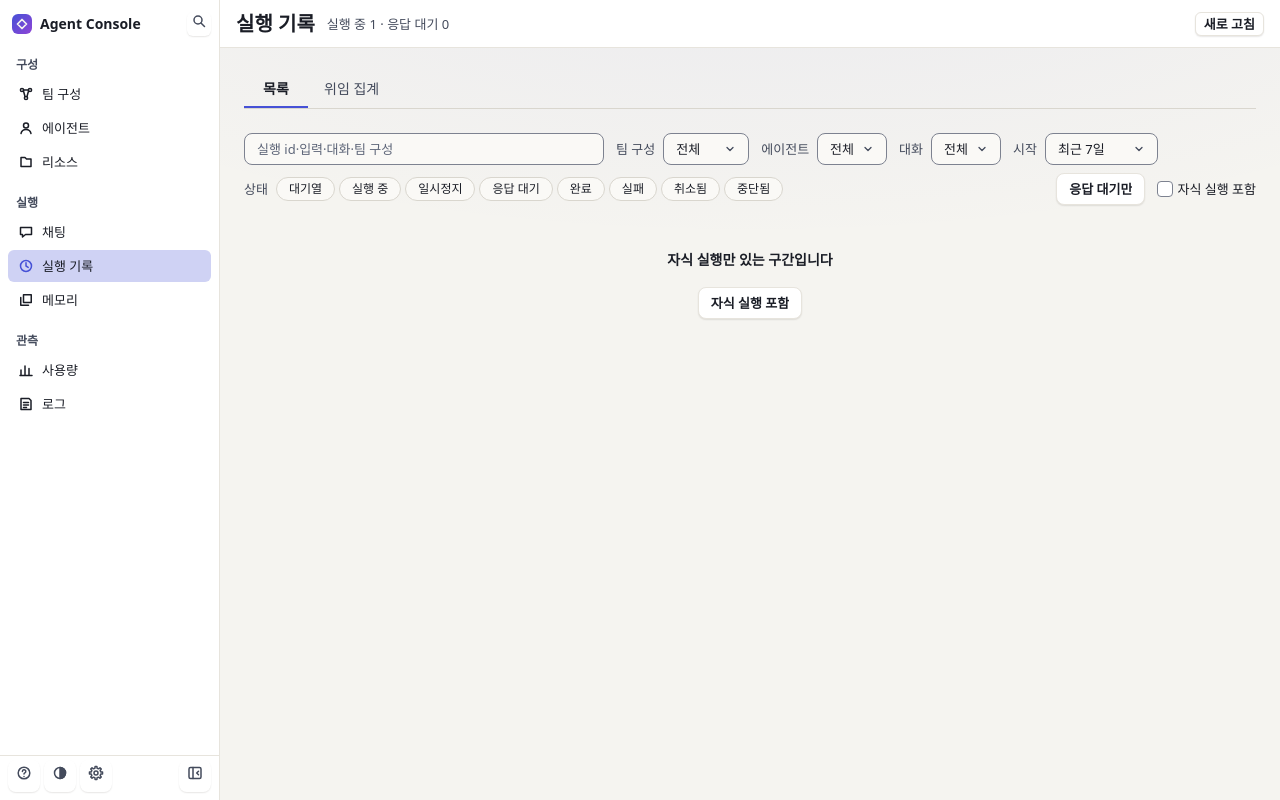
Test: 실행 기록: 자식 실행 포함 토글 › 자식 실행만 있는 구간이면 안내와 [자식 실행 포함]
The width and height of the screenshot is (1280, 800).
Expected: the heading "자식 실행만 있는 구간입니다" is shown, [667,249,833,271]
Step 1. Click the button "자식 실행 포함" → x=750, y=303, box [698,287,802,319]
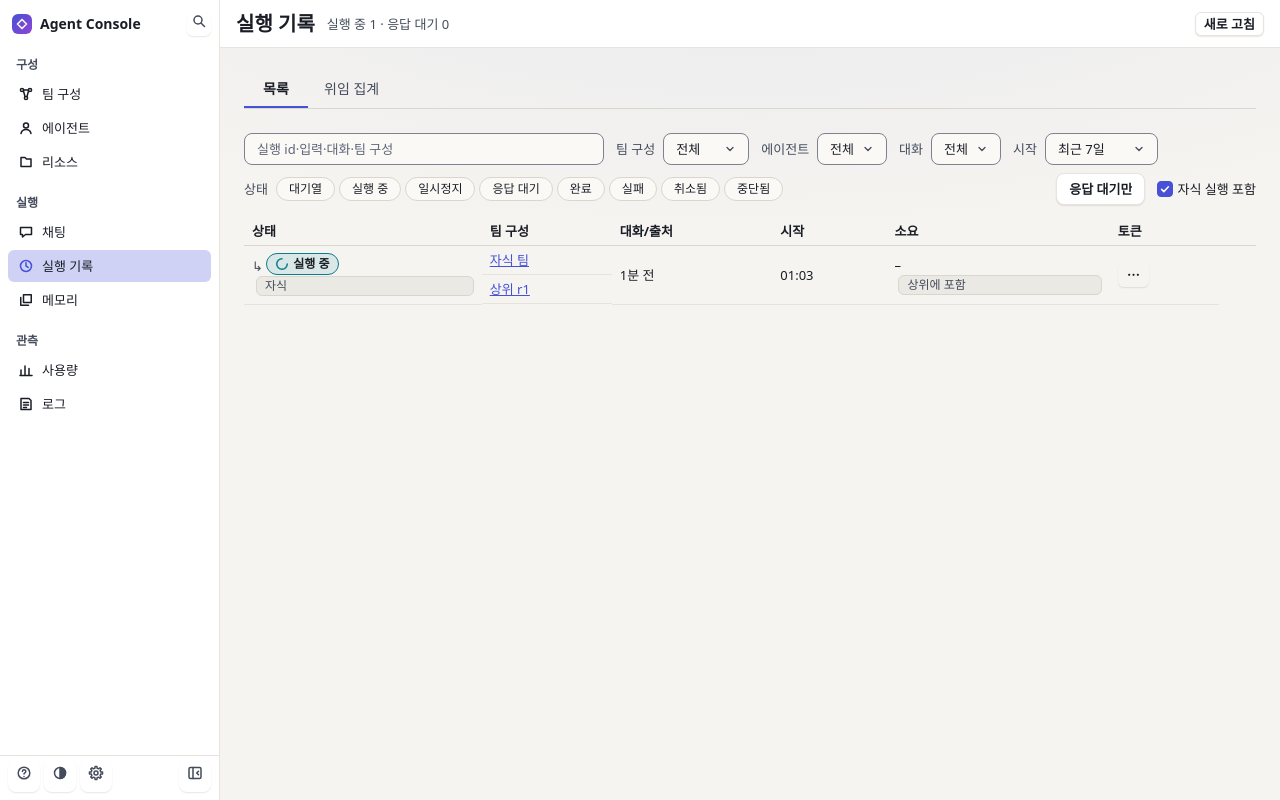
Expected: the table named "실행 목록" is shown, [244,217,1256,304]
